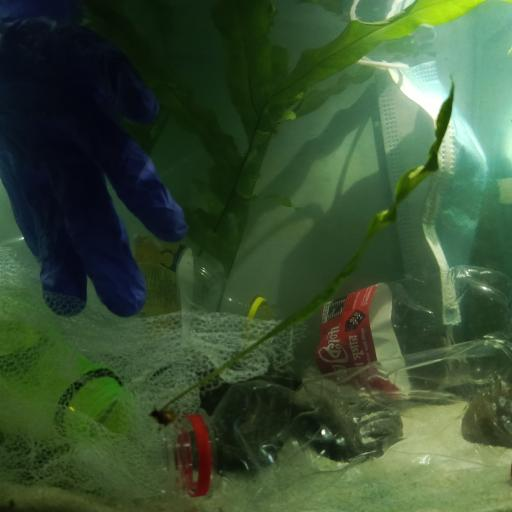glove: (2, 0, 193, 321)
mask: (356, 53, 490, 342)
net: (2, 240, 290, 494)
plastic_bottle: (167, 334, 512, 500), (0, 216, 280, 333), (271, 263, 512, 394), (0, 289, 129, 441)
